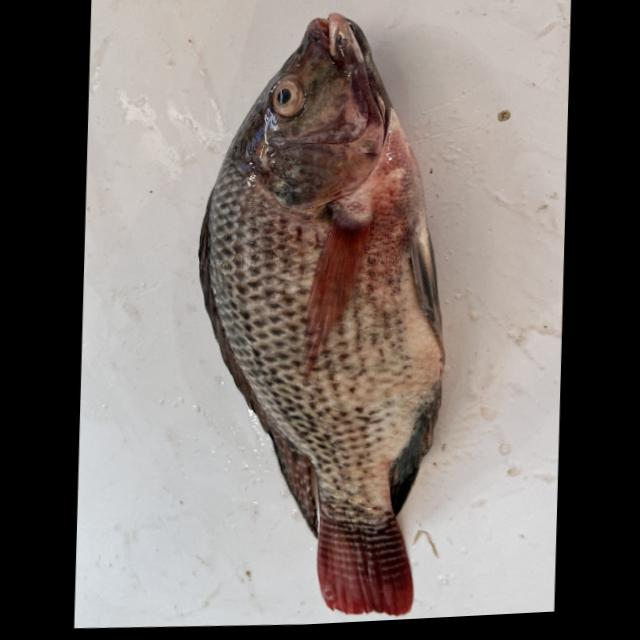Tilapia: (179, 5, 457, 628)
